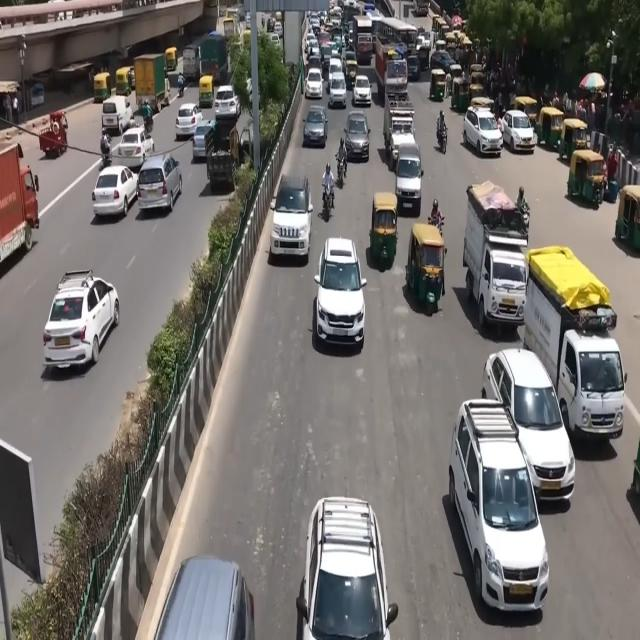auto: (406, 223, 446, 311), (566, 144, 607, 207), (368, 192, 398, 264), (614, 184, 640, 252), (558, 116, 588, 164), (536, 106, 565, 152), (514, 95, 541, 131), (451, 71, 474, 111), (198, 74, 214, 109), (93, 73, 111, 104), (430, 68, 446, 102), (116, 66, 132, 96), (468, 84, 485, 110), (165, 46, 178, 74), (242, 28, 252, 51)
bike-auto: (322, 163, 335, 209), (516, 187, 530, 220), (429, 200, 443, 232), (336, 137, 347, 177), (100, 129, 112, 165), (436, 121, 448, 154), (177, 73, 185, 97)
